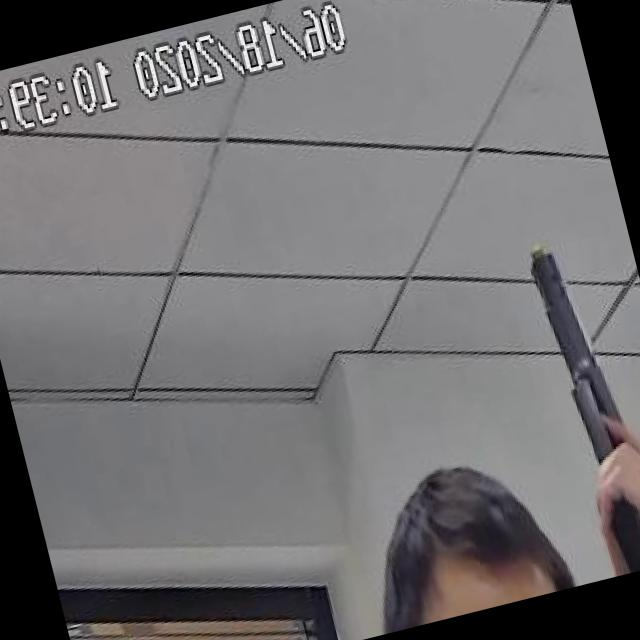Guns: (502, 203, 640, 582)
